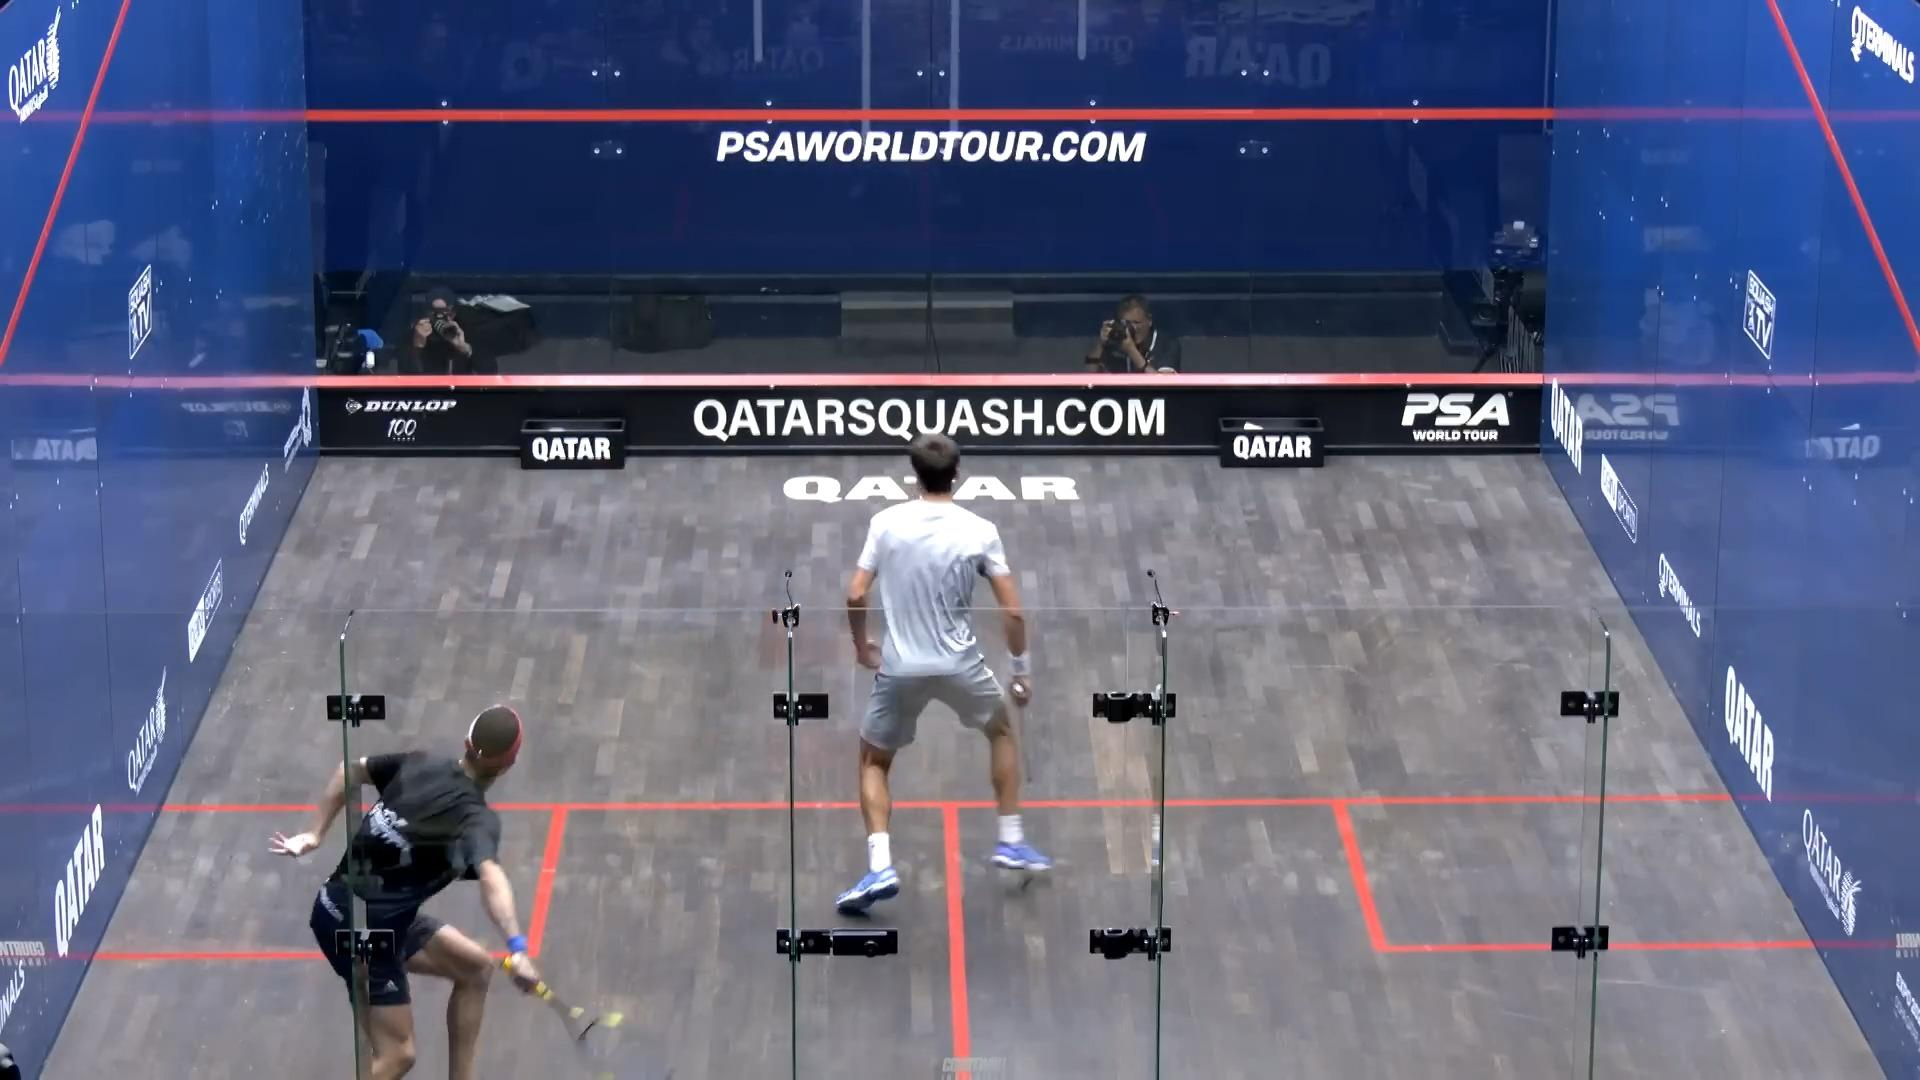Racket: (513, 971, 694, 1080)
